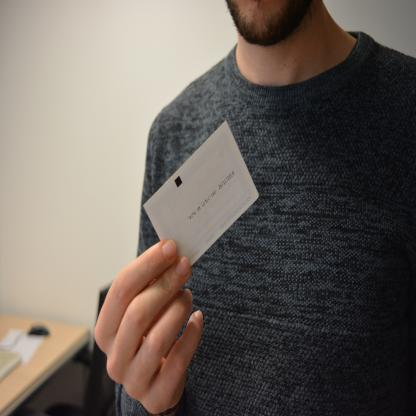tarjeta: (142, 119, 261, 267)
